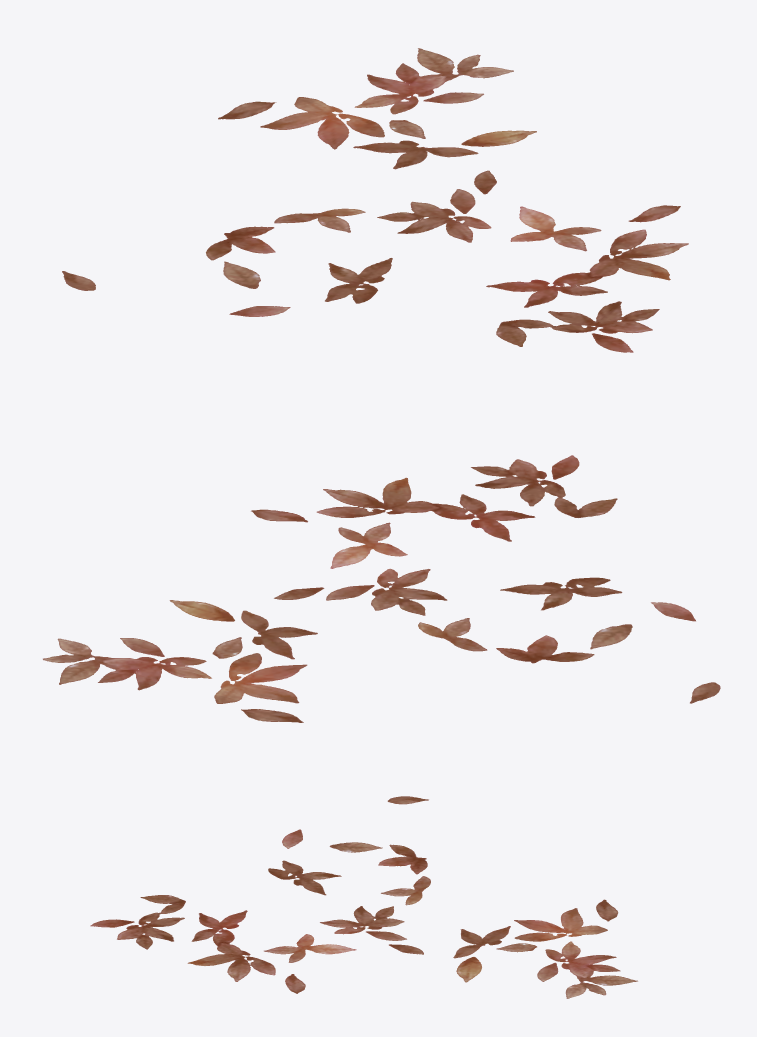
File: bg_anh_tree_te_t55_02_sm_old.FBX
The picture shows the model from 3 angles, top to bottom: view 1: azimuth 30°, elevation 25°; view 2: azimuth 150°, elevation 25°; view 3: azimuth 270°, elevation 25°; orthographic projection. The views are drawn at different scales.
Visible parts, largest first — view 1: bg_anh_tree_te_t55_02_sm_old; view 2: bg_anh_tree_te_t55_02_sm_old; view 3: bg_anh_tree_te_t55_02_sm_old.
Boxes of the visible parts, left/top/right/bottom form: bg_anh_tree_te_t55_02_sm_old: left=62, top=48, right=688, bottom=352; bg_anh_tree_te_t55_02_sm_old: left=43, top=455, right=720, bottom=722; bg_anh_tree_te_t55_02_sm_old: left=90, top=796, right=637, bottom=998.
Size of the model in its own units: 140 by 1.1e-14 by 179.
